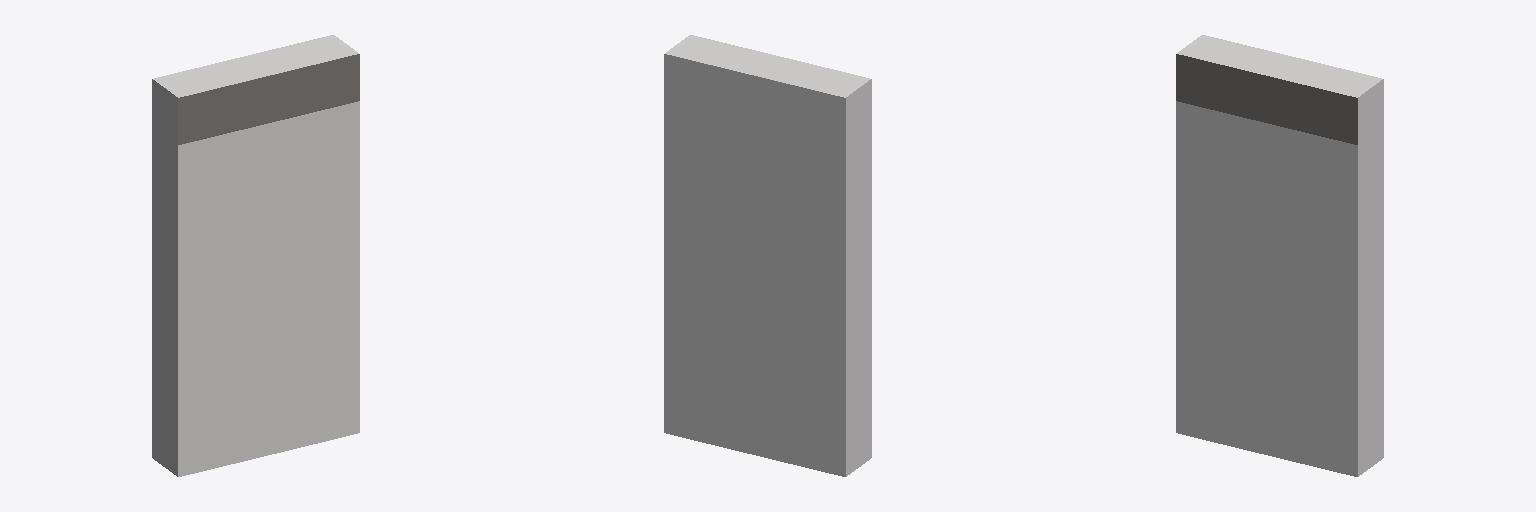
3 renders of one model, left to right at view 1: azimuth 30°, elevation 25°; view 2: azimuth 150°, elevation 25°; view 3: azimuth 330°, elevation 25°, orthographic.
Parts seen in each view (by area): view 1: Cube_Cube.001; view 2: Cube_Cube.001; view 3: Cube_Cube.001.
Boxes of the visible parts, <box> form: Cube_Cube.001: <box>152,35,359,476</box>; Cube_Cube.001: <box>664,35,871,476</box>; Cube_Cube.001: <box>1176,35,1383,476</box>.
Bounding box in the file's own units: 0.8 × 1.6 × 0.2.
Materials: 1 (1 with a texture image).